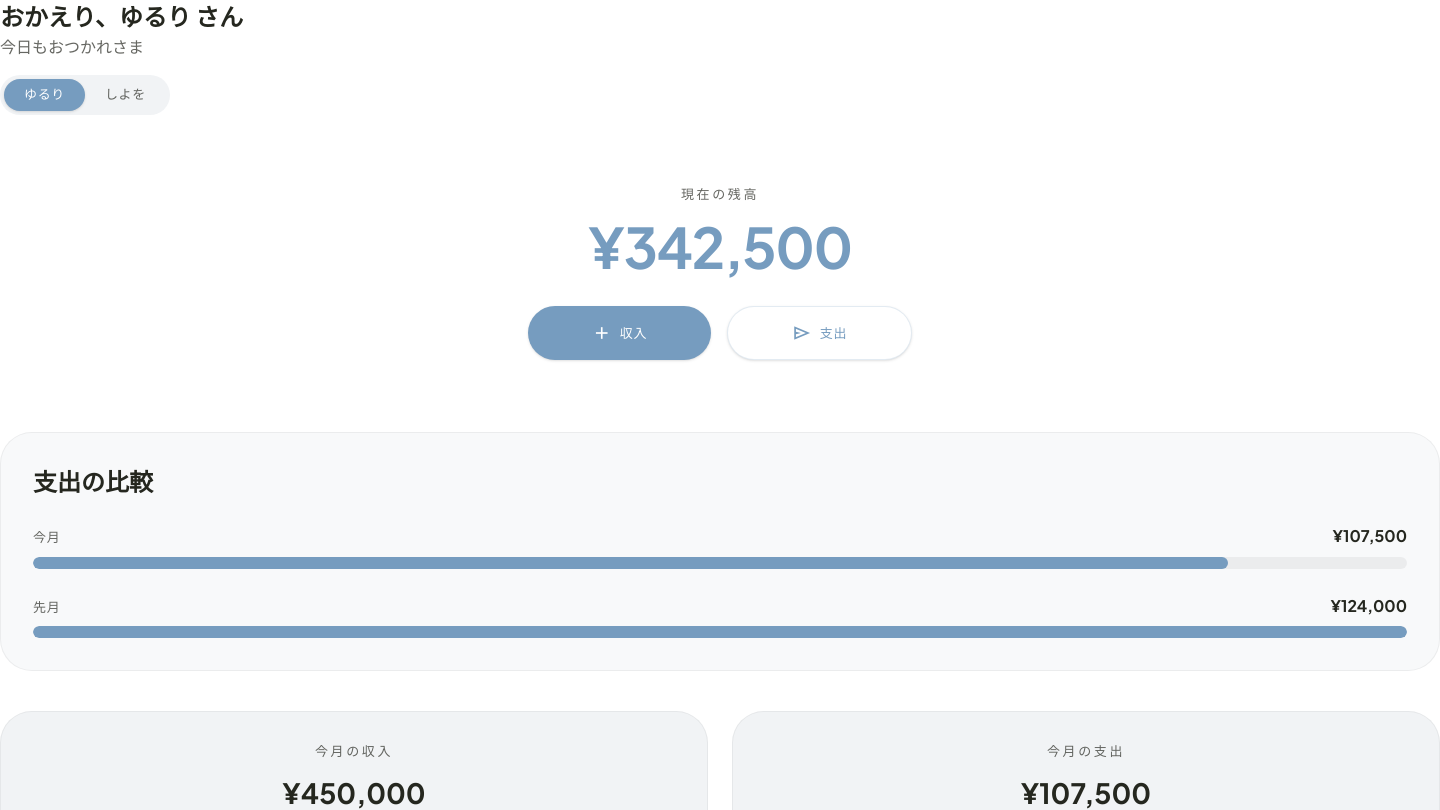
Test: HomePage ダッシュボード統合 › ホームから追加すると直近の履歴に即座に出る（楽観更新）
The image size is (1440, 810).
Click the button "支出" at (820,333), box x1=727 y1=306 x2=912 y2=360
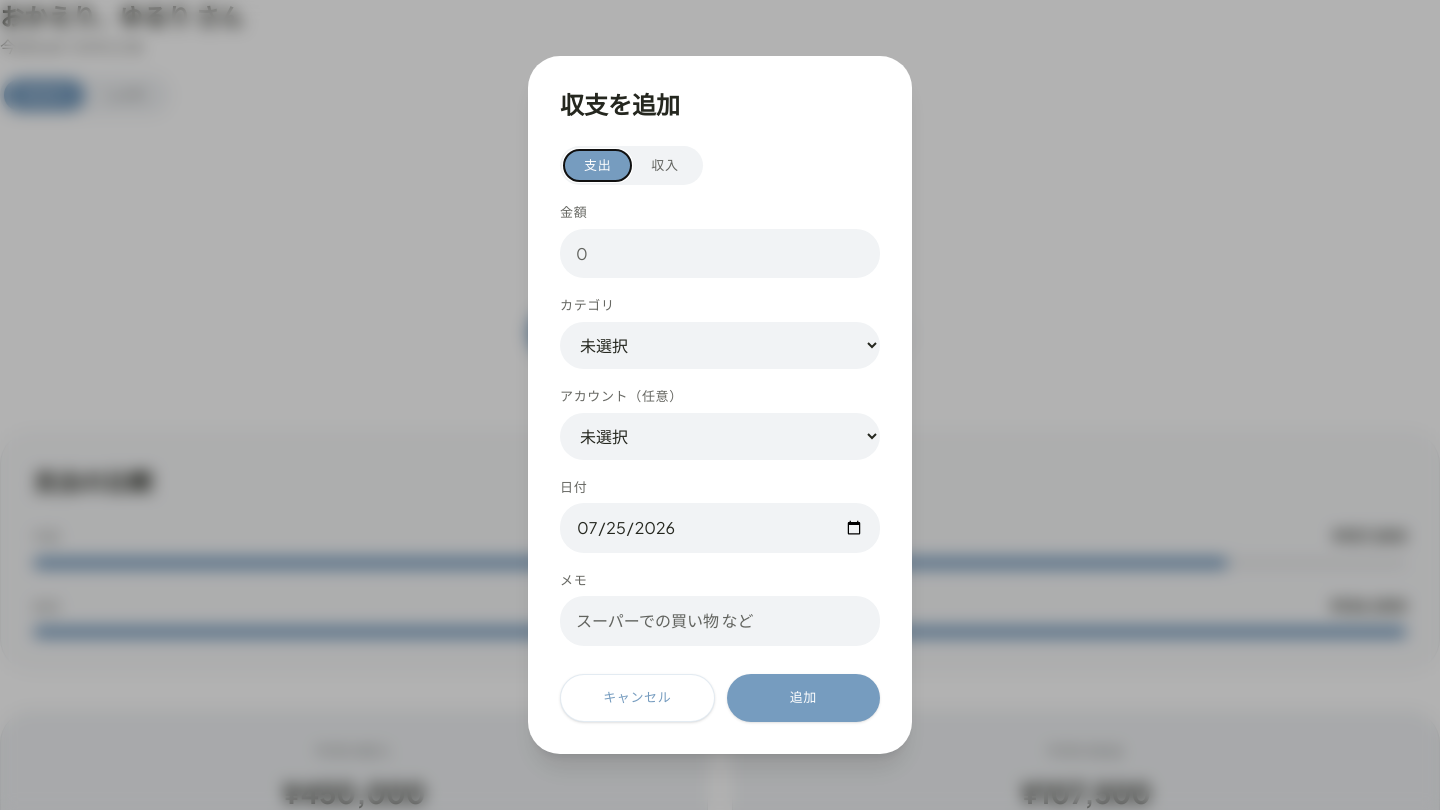
Type "3,000" into the field with placeholder "0" at (720,254), box x1=560 y1=229 x2=880 y2=278
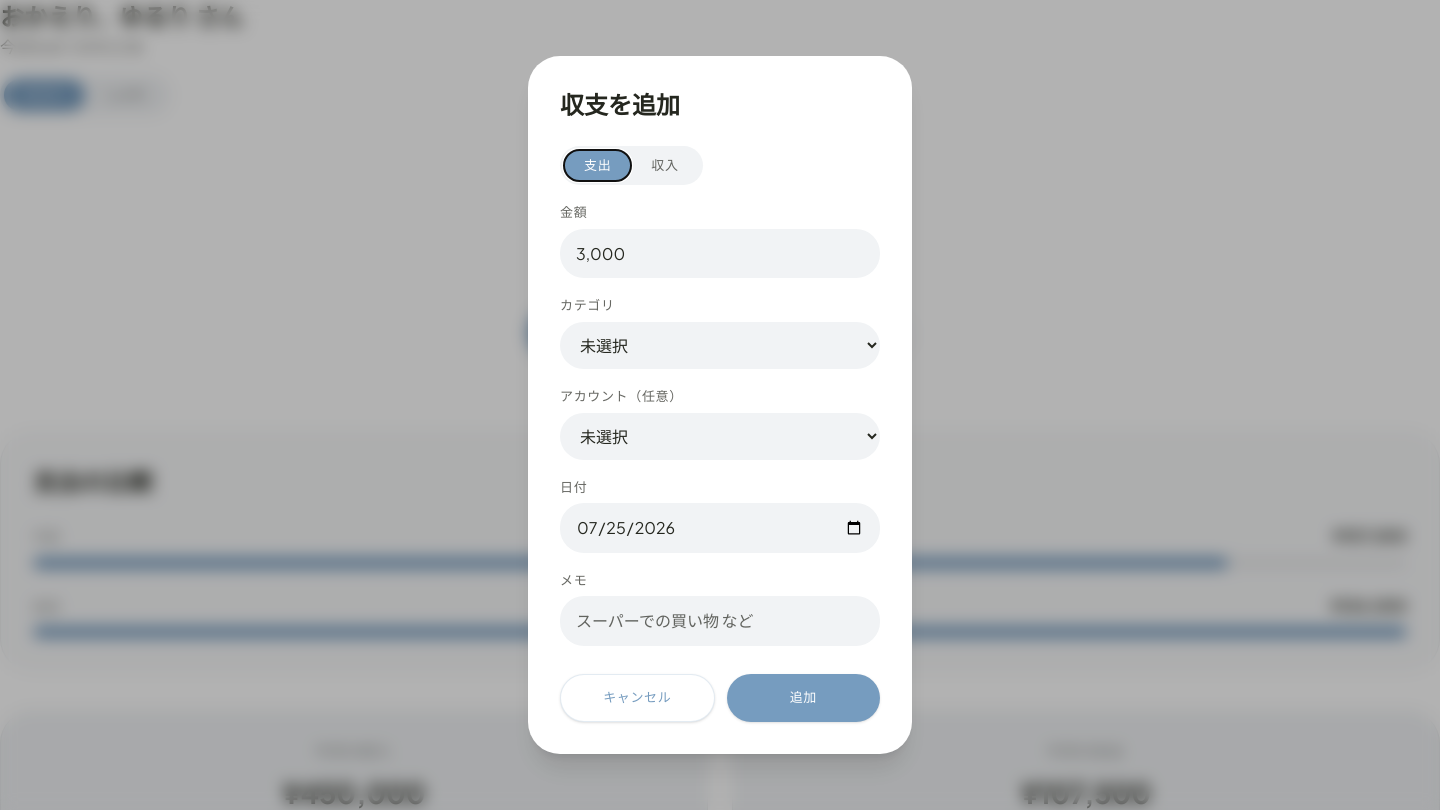
Click the button "追加" at (803,698), box x1=727 y1=674 x2=880 y2=722
(page scrolled)
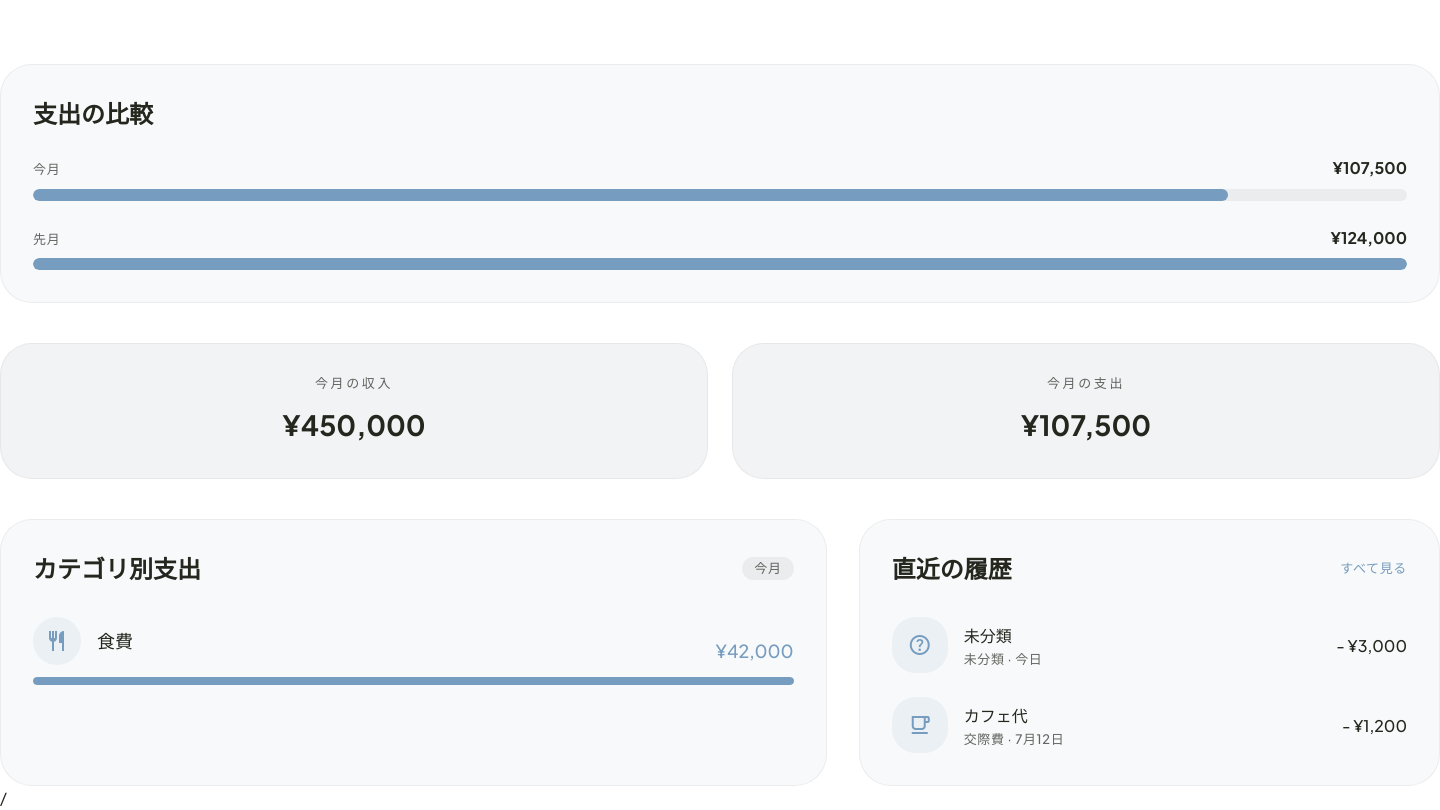
Check: the dialog is gone
Check: the text "- ¥3,000" is shown, box x1=1336 y1=632 x2=1407 y2=658
